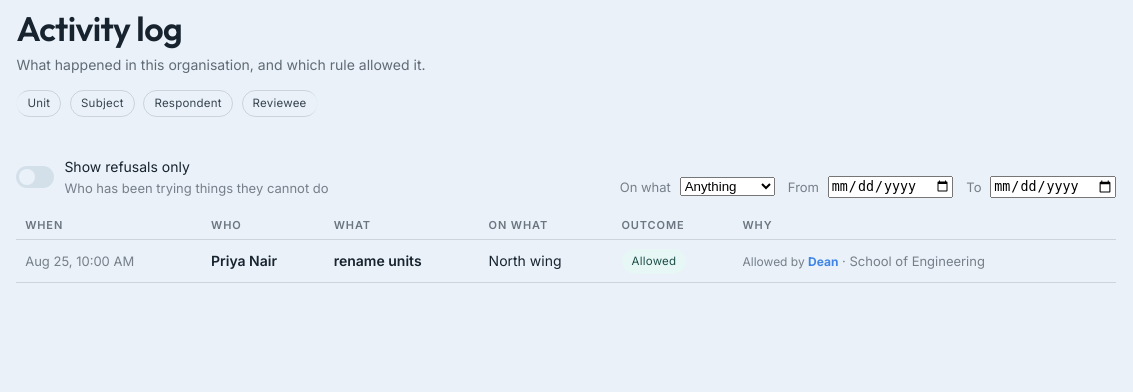
Scenario: /app/logs › says WHY, not only what — the trace expands to the full sentence
Expected: the text "rename units" is shown, x1=334 y1=252 x2=422 y2=269
Step 1. Click the button → (925, 261), box x1=742 y1=250 x2=1107 y2=273
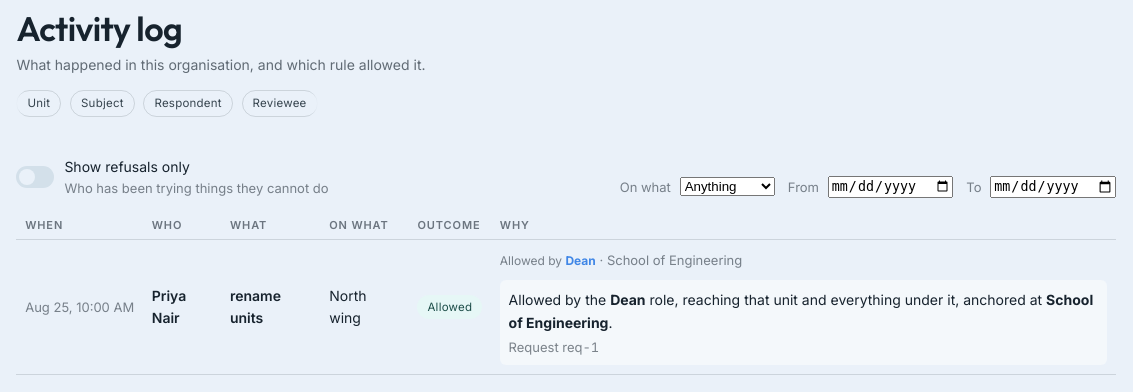
Result: the text "and everything under it" is shown at x1=744 y1=291 x2=955 y2=308
Result: the text "Request req-1" is shown at x1=509 y1=339 x2=599 y2=355
